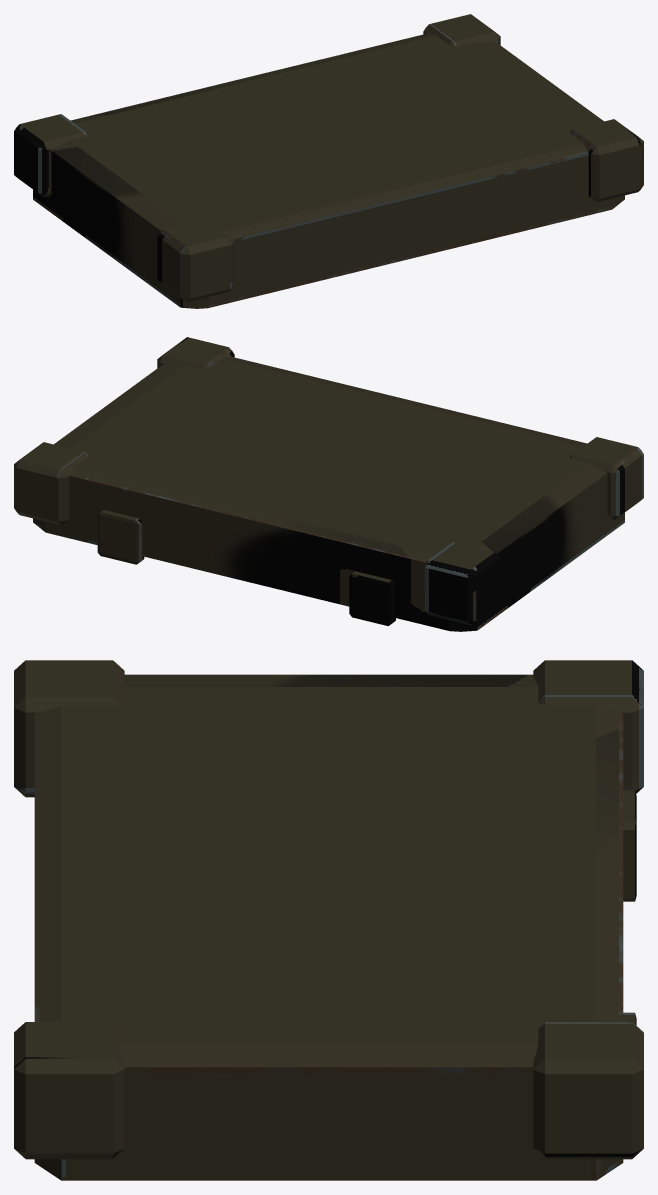
The model's file is bau_tampa.glb.
3 renders of one model, top to bottom at view 1: azimuth 30°, elevation 25°; view 2: azimuth 150°, elevation 25°; view 3: azimuth 270°, elevation 25°, orthographic. The views are drawn at different scales.
Visible parts, largest first — view 1: bau_tampa; view 2: bau_tampa; view 3: bau_tampa.
Boxes of the visible parts, bbox=[...] form: bau_tampa: bbox=[14, 14, 643, 308]; bau_tampa: bbox=[14, 337, 643, 631]; bau_tampa: bbox=[14, 660, 643, 1180].
Size of the model in its own units: 3.32 by 0.5198 by 2.16.
Materials: 1 (1 with a texture image).
